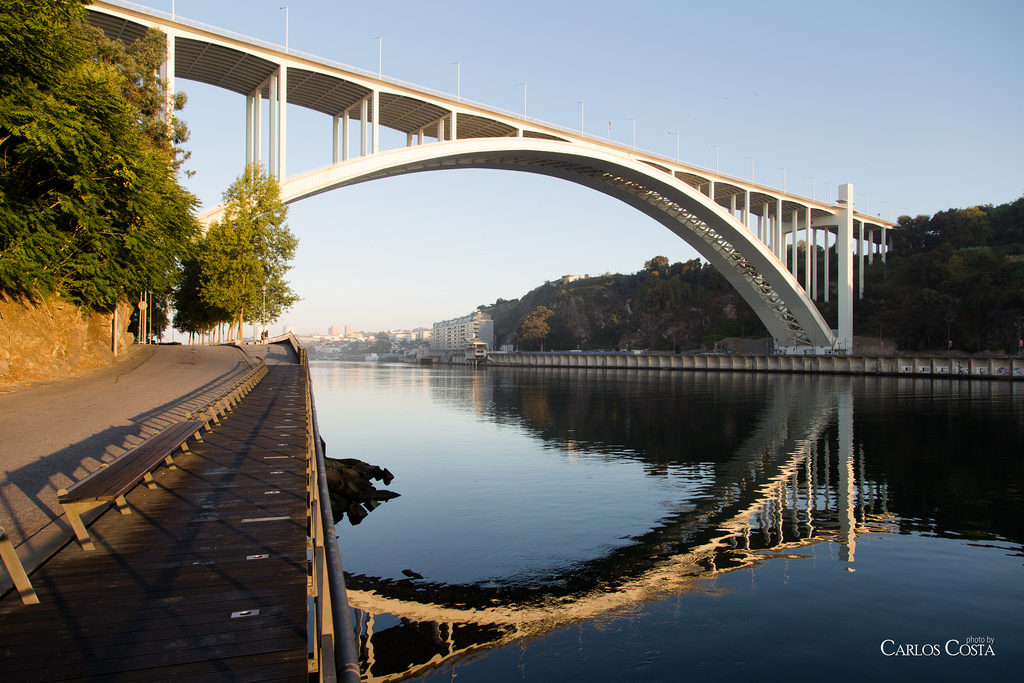arrabida: (78, 0, 903, 357)
